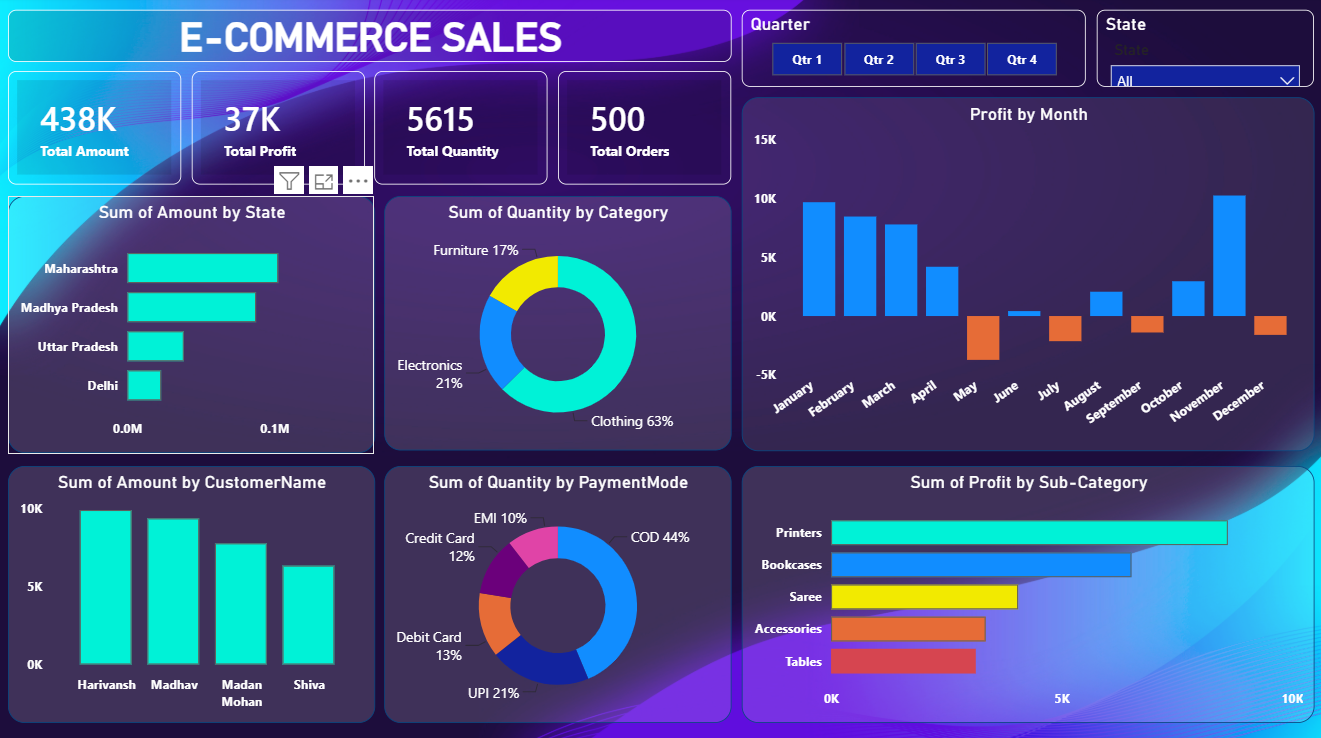

The page's visual inventory and layout, read from the dashboard file:
{"tool":"powerbi","page":{"name":"Sales","canvas":[1280,720],"ordinal":0},"visuals":[{"type":"textbox","title":"E-COMMERCE SALES DASHBOARD","box":[9.6,13.7,698.5,50.8],"z":0},{"type":"columnChart","title":"Profit by Month","fields":{"Y":["Sum(Details.Profit)"],"Category":["Orders.Order Date.Variation.Date Hierarchy.Month"]},"box":[717.7,97.4,553,341.7],"z":1000},{"type":"barChart","title":"Sum of Profit by Sub-Category","fields":{"Category":["Details.Sub-Category"],"Y":["Sum(Details.Profit)"]},"box":[717.7,454.2,553,248.4],"z":2000},{"type":"donutChart","fields":{"Category":["Details.Category"],"Y":["Sum(Details.Quantity)"]},"box":[373.2,193.5,334.8,245.6],"z":3000},{"type":"donutChart","fields":{"Y":["Sum(Details.Quantity)"],"Category":["Details.PaymentMode"]},"box":[373.2,454.2,334.8,248.4],"z":4000},{"type":"cardVisual","fields":{"Data":["Sum(Details.Amount)"]},"box":[9.6,72.7,167.4,109.8],"z":5000},{"type":"cardVisual","fields":{"Data":["Sum(Details.Profit)"]},"box":[186.6,72.7,167.4,109.8],"z":6000},{"type":"cardVisual","fields":{"Data":["Sum(Details.Quantity)"]},"box":[363.6,72.7,167.4,109.8],"z":7000},{"type":"cardVisual","fields":{"Data":["Details.Total Orders"]},"box":[540.7,72.7,167.4,109.8],"z":8000},{"type":"barChart","title":"Sum of Amount by State","fields":{"Y":["Sum(Details.Amount)"],"Category":["Orders.State"]},"box":[9.6,193.5,354,248.4],"z":9000},{"type":"columnChart","title":"Sum of Amount by CustomerName","fields":{"Category":["Orders.CustomerName"],"Y":["Sum(Details.Amount)"]},"box":[9.6,454.2,354,248.4],"z":10000},{"type":"slicer","title":"Quarter","fields":{"Values":["Orders.Order Date.Variation.Date Hierarchy.Quarter"]},"box":[717.7,13.7,332.1,74.1],"z":11000},{"type":"slicer","title":"State","fields":{"Values":["Orders.State"]},"box":[1060.7,13.7,209.9,74.1],"z":12000}]}

Visuals, with their boxes in screenshot pixels (x1, y1, x2, y2), scaled from the page's 1280x720 canvas onto the 1321x738 screenshot:
"E-COMMERCE SALES DASHBOARD" textbox: detection(10, 14, 731, 66)
"Profit by Month" columnChart: detection(741, 100, 1311, 450)
"Sum of Profit by Sub-Category" barChart: detection(741, 466, 1311, 720)
donutChart - Details.Category x Sum(Details.Quantity): detection(385, 198, 731, 450)
donutChart - Sum(Details.Quantity) x Details.PaymentMode: detection(385, 466, 731, 720)
cardVisual - Sum(Details.Amount): detection(10, 75, 183, 187)
cardVisual - Sum(Details.Profit): detection(193, 75, 365, 187)
cardVisual - Sum(Details.Quantity): detection(375, 75, 548, 187)
cardVisual - Details.Total Orders: detection(558, 75, 731, 187)
"Sum of Amount by State" barChart: detection(10, 198, 375, 453)
"Sum of Amount by CustomerName" columnChart: detection(10, 466, 375, 720)
"Quarter" slicer: detection(741, 14, 1083, 90)
"State" slicer: detection(1095, 14, 1311, 90)
